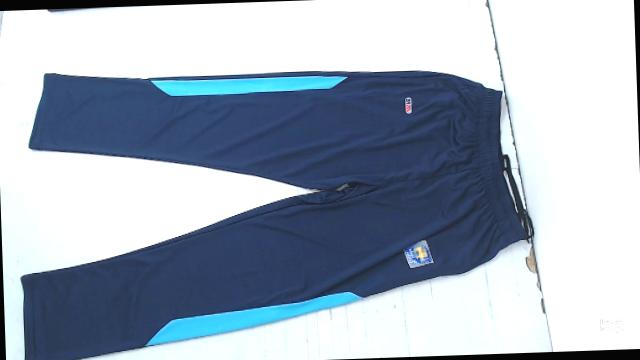new-garment: (22, 71, 530, 360)
